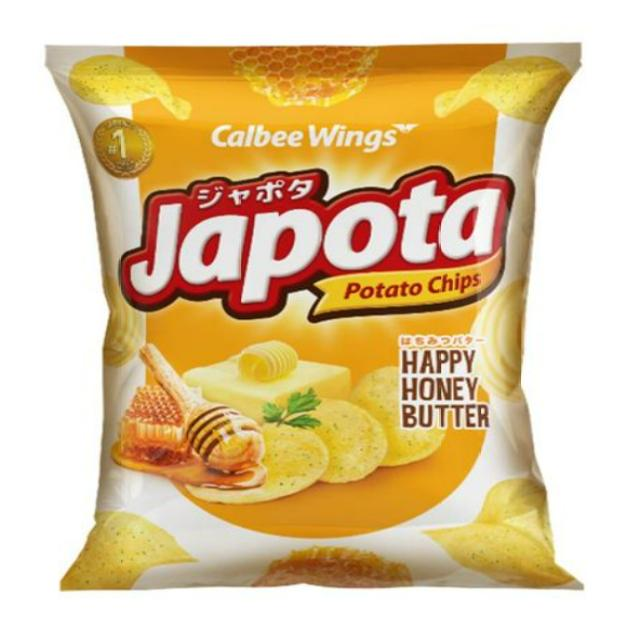KemasanPlastik: (43, 45, 581, 590)
